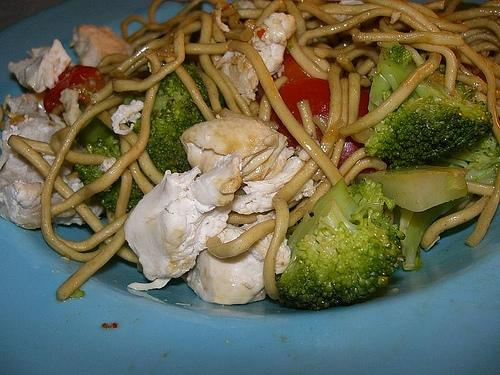broccoli: (73, 61, 226, 213), (276, 177, 406, 311), (364, 80, 492, 170), (386, 192, 473, 270), (358, 165, 467, 212)
tomato: (256, 48, 377, 174), (44, 64, 106, 118)
